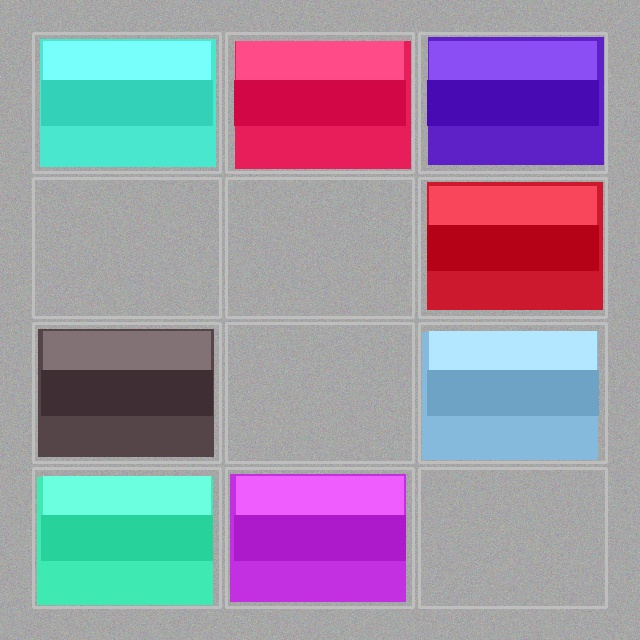space-empty: (35, 180, 218, 315), (228, 180, 411, 315), (228, 325, 411, 460), (421, 470, 604, 605)
space-occupied: (35, 35, 218, 170), (228, 35, 411, 170), (421, 35, 604, 170), (421, 180, 604, 315), (35, 325, 218, 460), (421, 325, 604, 460), (35, 470, 218, 605), (228, 470, 411, 605)
